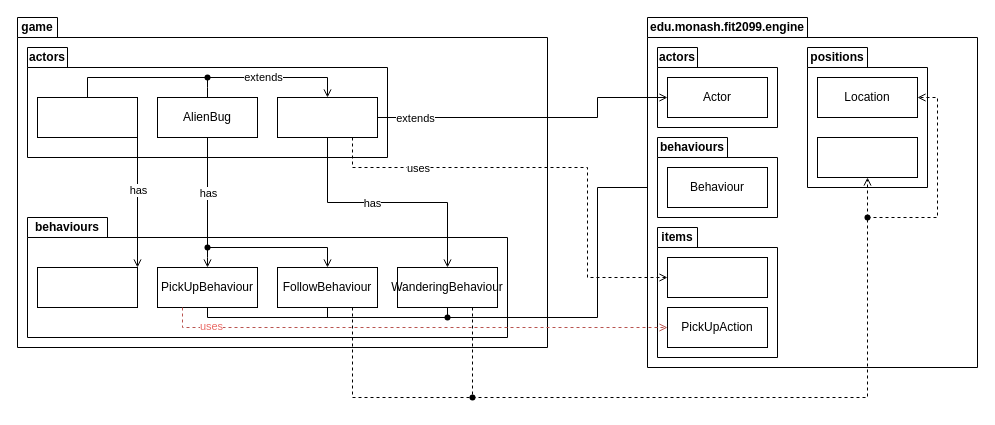
This 995x425 diagram has some shape labels left out. The shapes that lost their labels are listed below. From the top down, each one's centre as x and y in pixels, then its label:
[87,117]: SuspiciousAstronaut
[327,117]: Monster
[867,157]: Exit
[87,287]: AttackBehaviour
[717,277]: DropAction
